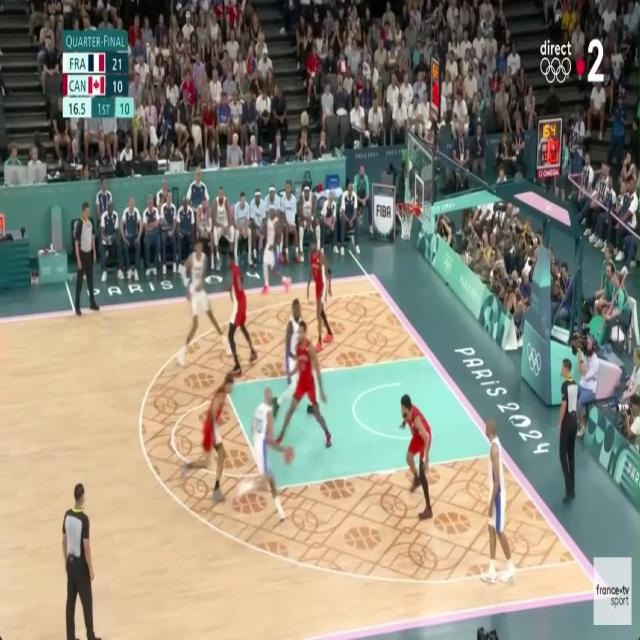ball_handler: (248, 389, 294, 523)
